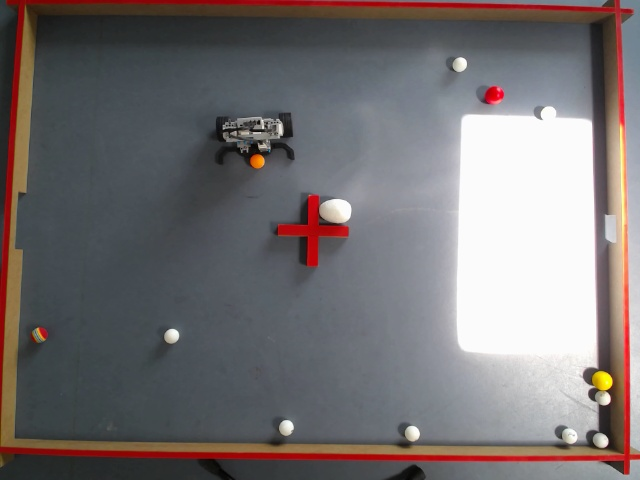big_goal: (15, 192, 26, 249)
cross: (278, 195, 348, 269)
egg: (318, 198, 351, 222)
orange: (248, 155, 264, 170)
robot: (215, 111, 295, 165)
small_goal: (602, 213, 615, 243)
wall: (12, 15, 611, 446)
white: (404, 426, 420, 443), (163, 327, 178, 344), (540, 105, 556, 120), (595, 390, 611, 405), (592, 432, 608, 447), (562, 428, 577, 444), (278, 419, 293, 435), (452, 57, 467, 72)
